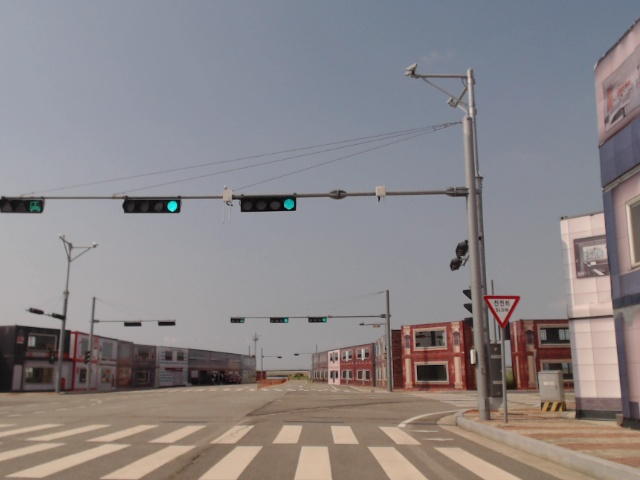straight_green_4: (239, 196, 296, 211), (123, 198, 179, 213), (269, 317, 288, 324), (309, 316, 328, 322)
